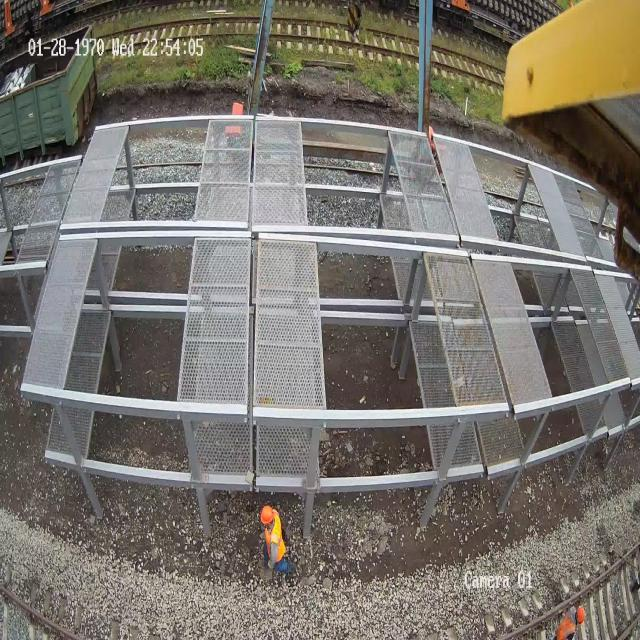Helmet: (572, 599, 588, 625), (260, 505, 274, 524)
Person: (549, 588, 597, 640), (260, 504, 290, 574)
